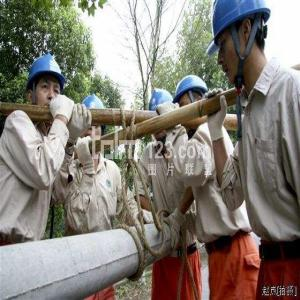blue: (209, 2, 273, 86), (27, 54, 63, 121), (175, 76, 209, 123), (80, 95, 107, 151), (149, 88, 173, 144)
